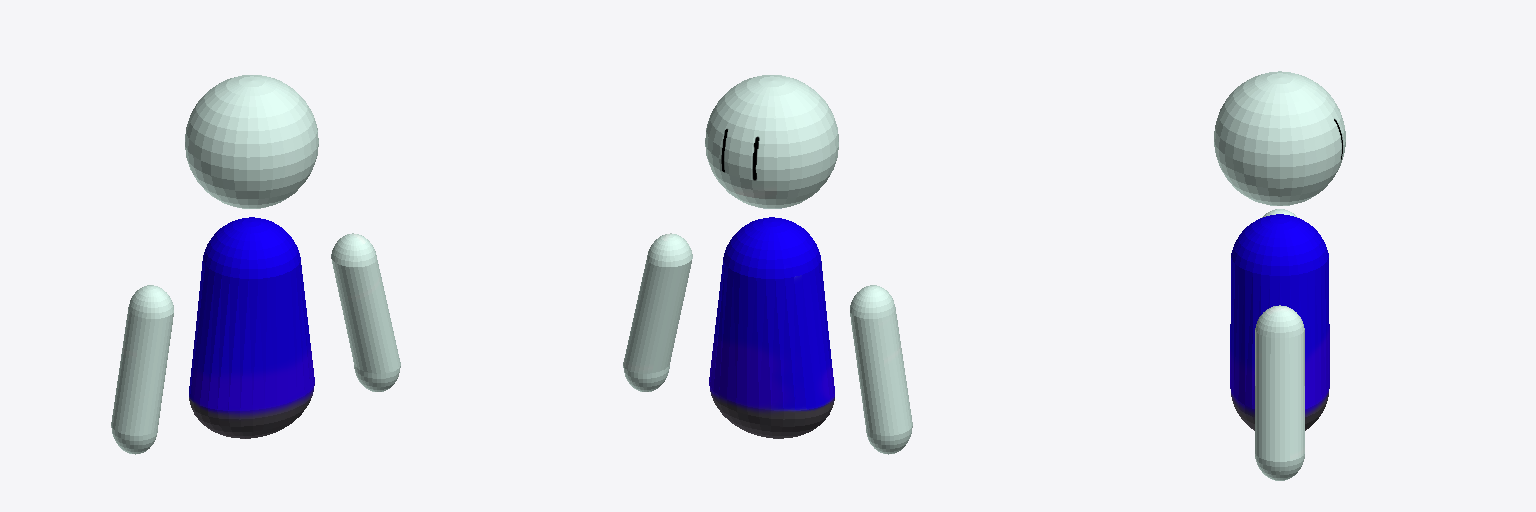
3 renders of one model, left to right at view 1: azimuth 30°, elevation 25°; view 2: azimuth 150°, elevation 25°; view 3: azimuth 270°, elevation 25°, orthographic.
Parts seen in each view (by area): view 1: Body, Head, Arm2, Arm1; view 2: Body, Head, Arm2, Arm1; view 3: Head, Body, Arm1.
Boxes of the visible parts, x1,y1,x2,y2 form: Body: [189, 217, 314, 438]; Head: [185, 75, 318, 208]; Arm2: [111, 285, 173, 454]; Arm1: [331, 233, 400, 391]; Body: [709, 217, 834, 438]; Head: [705, 75, 838, 208]; Arm2: [850, 285, 912, 454]; Arm1: [623, 233, 692, 391]; Head: [1214, 71, 1345, 205]; Body: [1230, 214, 1329, 430]; Arm1: [1255, 305, 1304, 480].
Size of the model in its own units: 2.57 by 3.07 by 1.05.
Materials: 2 (1 with a texture image).